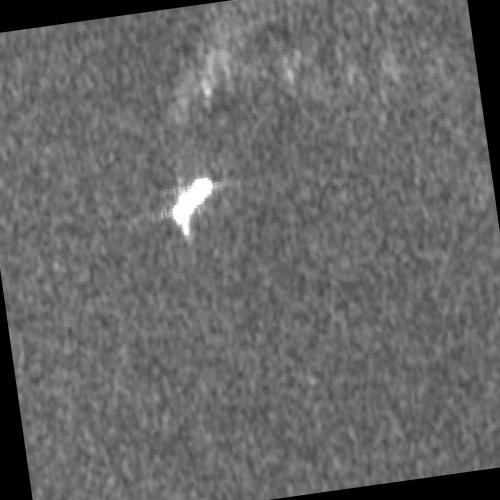ship: (171, 176, 215, 236)
